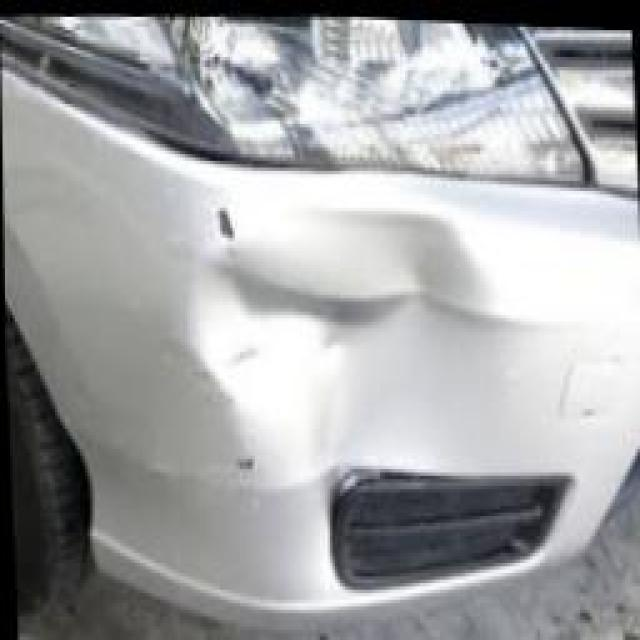Bumper: (98, 178, 614, 543)
